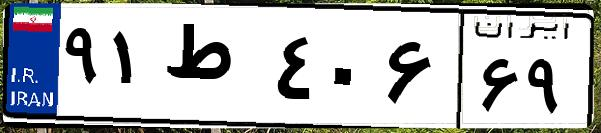0: (330, 28, 385, 110)
1: (110, 28, 158, 98)
4: (270, 28, 330, 110)
6: (385, 28, 445, 110), (475, 38, 525, 113)
9: (57, 26, 110, 100), (525, 38, 570, 115)
ط: (158, 20, 270, 120)
